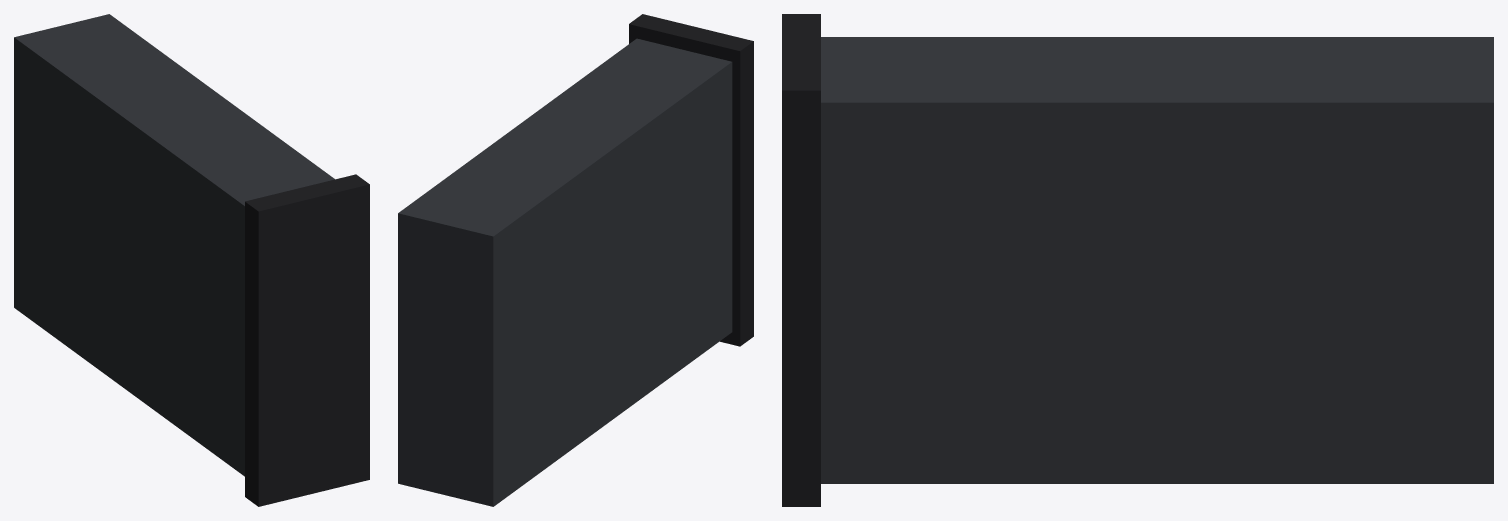
Rendered from STANAG_Mag30.fbx.
The picture shows the model from 3 angles, left to right: view 1: azimuth 30°, elevation 25°; view 2: azimuth 150°, elevation 25°; view 3: azimuth 270°, elevation 25°; orthographic projection. The views are drawn at different scales.
Parts seen in each view (by area): view 1: prims; view 2: prims; view 3: prims.
Part boxes in pixels (x1=…): prims: x1=14, y1=14, x2=369, y2=506; prims: x1=398, y1=14, x2=753, y2=506; prims: x1=782, y1=14, x2=1493, y2=506.
Size of the model in its own units: 0.0168 by 0.0426 by 0.066.
